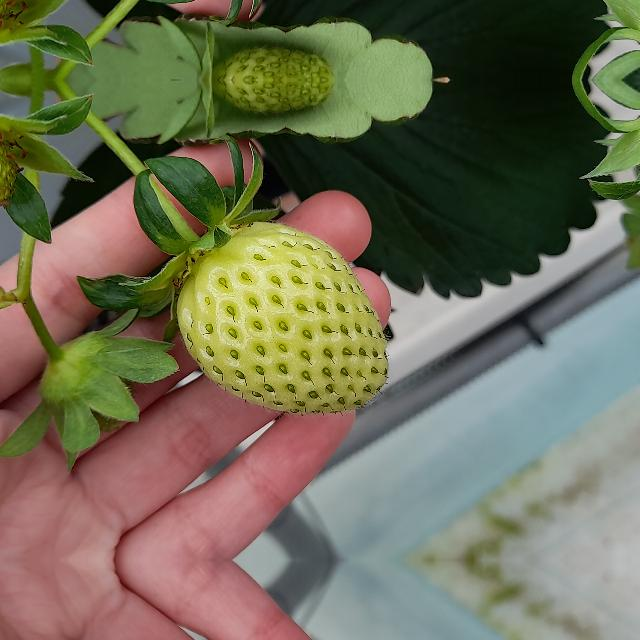Health_25: (176, 221, 388, 413)
